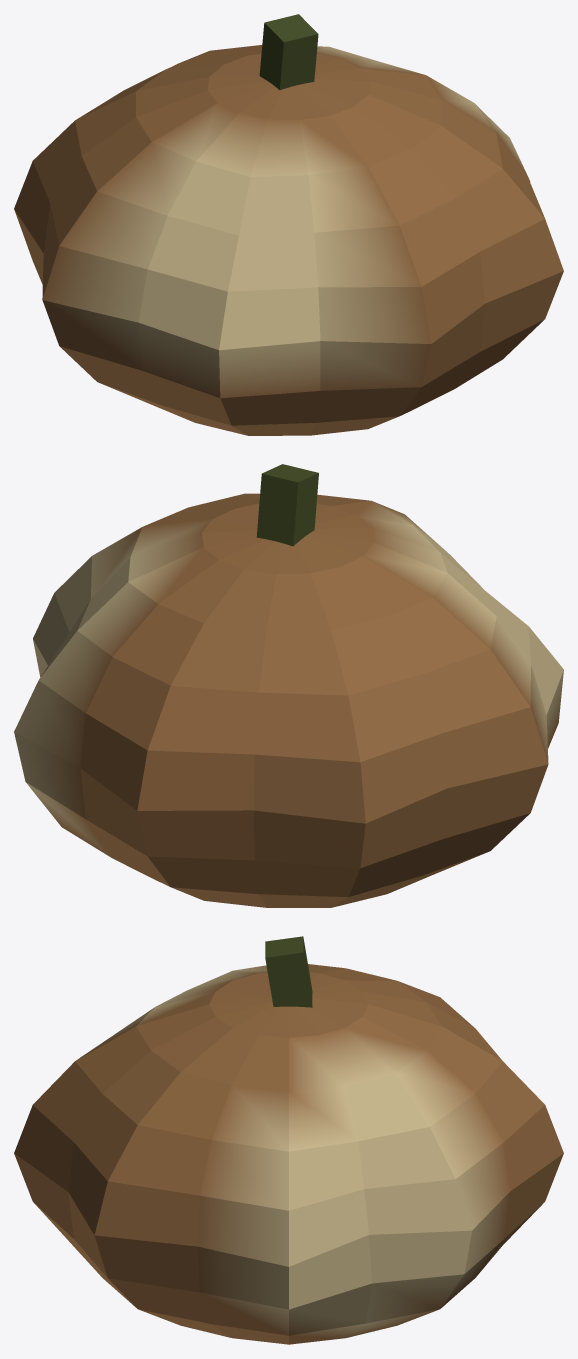
Rendered from pumpkin_prize_sad_gnawed.glb.
3 views of the same model, one above another, from view 1: azimuth 30°, elevation 25°; view 2: azimuth 150°, elevation 25°; view 3: azimuth 270°, elevation 25° (orthographic). The views are drawn at different scales.
Parts seen in each view (by area): view 1: Pumpkin; view 2: Pumpkin; view 3: Pumpkin.
Part boxes in pixels (x1,y1,x2,y2): Pumpkin: (14,14,563,435); Pumpkin: (14,464,563,907); Pumpkin: (14,936,563,1344).
Bounding box in the file's own units: 0.6924 × 0.5132 × 0.7.
